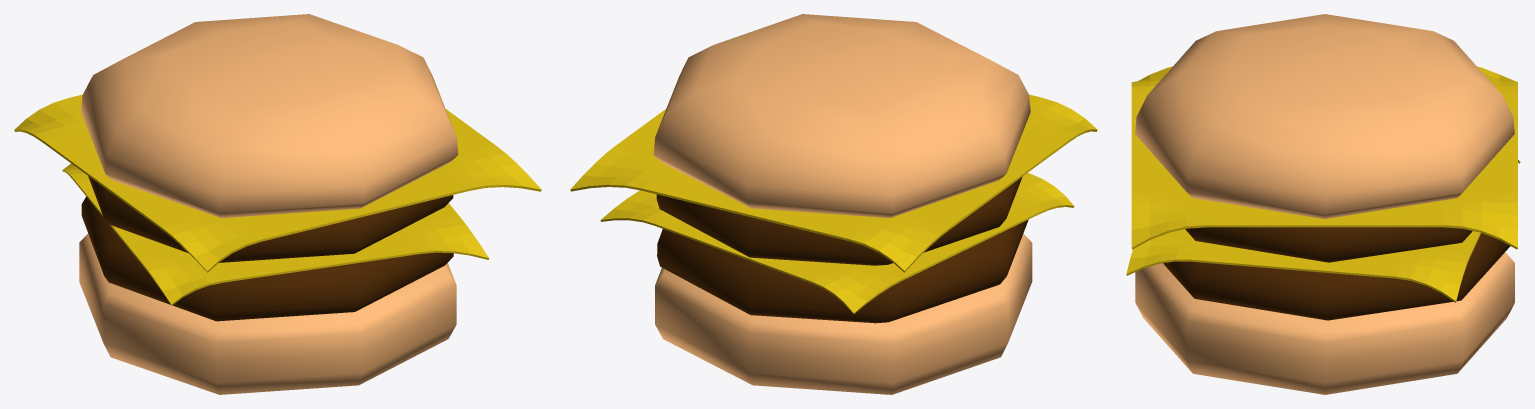
The model's file is burguer.glb.
3 views of the same model, side by side, from view 1: azimuth 30°, elevation 25°; view 2: azimuth 150°, elevation 25°; view 3: azimuth 270°, elevation 25° (orthographic).
Parts seen in each view (by area): view 1: Cube.002, Cube, Plane, Cube.004, Plane.001, Cube.001; view 2: Cube.002, Cube, Plane, Cube.004, Plane.001, Cube.001; view 3: Cube.002, Cube, Plane, Cube.004, Plane.001, Cube.001.
Boxes of the visible parts, bbox=[...] form: Cube.002: bbox=[81, 14, 458, 218]; Cube: bbox=[79, 234, 456, 394]; Plane: bbox=[14, 94, 541, 272]; Cube.004: bbox=[81, 196, 453, 321]; Plane.001: bbox=[62, 163, 489, 305]; Cube.001: bbox=[88, 176, 453, 262]; Cube.002: bbox=[653, 14, 1030, 217]; Cube: bbox=[655, 234, 1032, 394]; Plane: bbox=[570, 94, 1097, 272]; Cube.004: bbox=[657, 219, 1028, 323]; Plane.001: bbox=[600, 173, 1074, 314]; Cube.001: bbox=[656, 176, 1022, 265]; Cube.002: bbox=[1135, 14, 1514, 218]; Cube: bbox=[1135, 252, 1514, 394]; Plane: bbox=[1131, 66, 1517, 249]; Cube.004: bbox=[1163, 233, 1510, 320]; Plane.001: bbox=[1126, 160, 1520, 302]; Cube.001: bbox=[1185, 227, 1472, 262].
Size of the model in its own units: 1.91 by 1.44 by 1.9.
